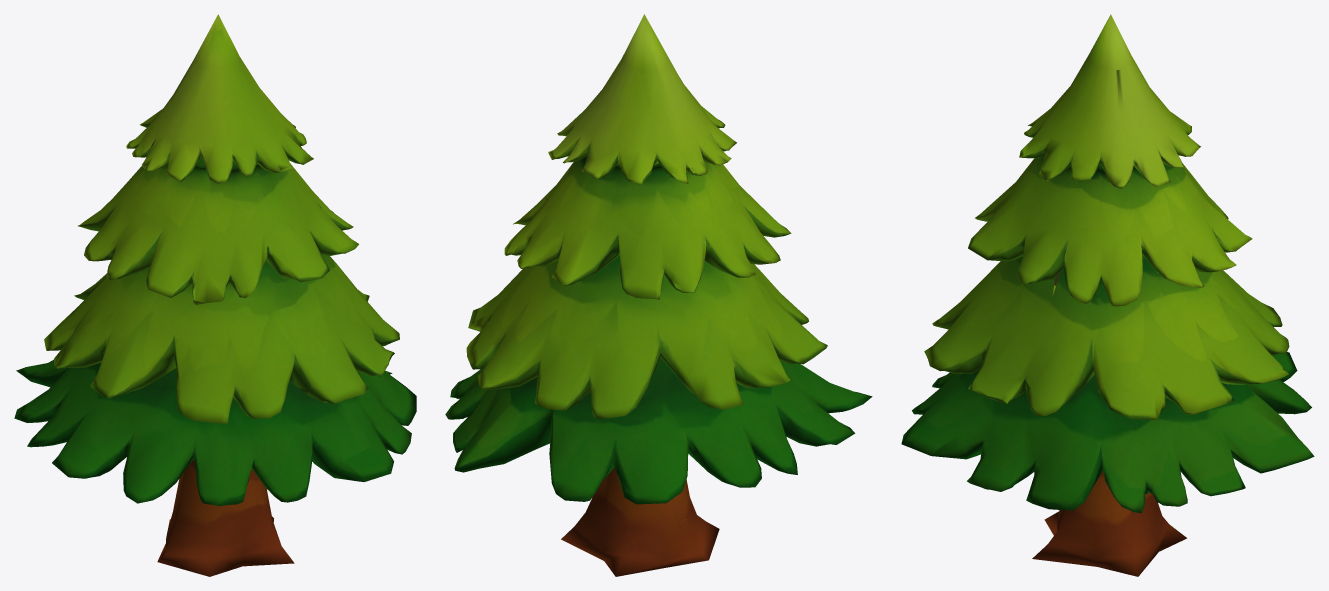
Rendered from pine_tree_3d_model.glb.
3 renders of one model, left to right at view 1: azimuth 30°, elevation 25°; view 2: azimuth 150°, elevation 25°; view 3: azimuth 270°, elevation 25°, orthographic.
Parts seen in each view (by area): view 1: world; view 2: world; view 3: world.
Boxes of the visible parts, <box> form: world: <box>14,14,416,576</box>; world: <box>445,14,872,576</box>; world: <box>901,14,1314,576</box>.
Size of the model in its own units: 0.709 by 0.998 by 0.7051.
Materials: 1 (1 with a texture image).
